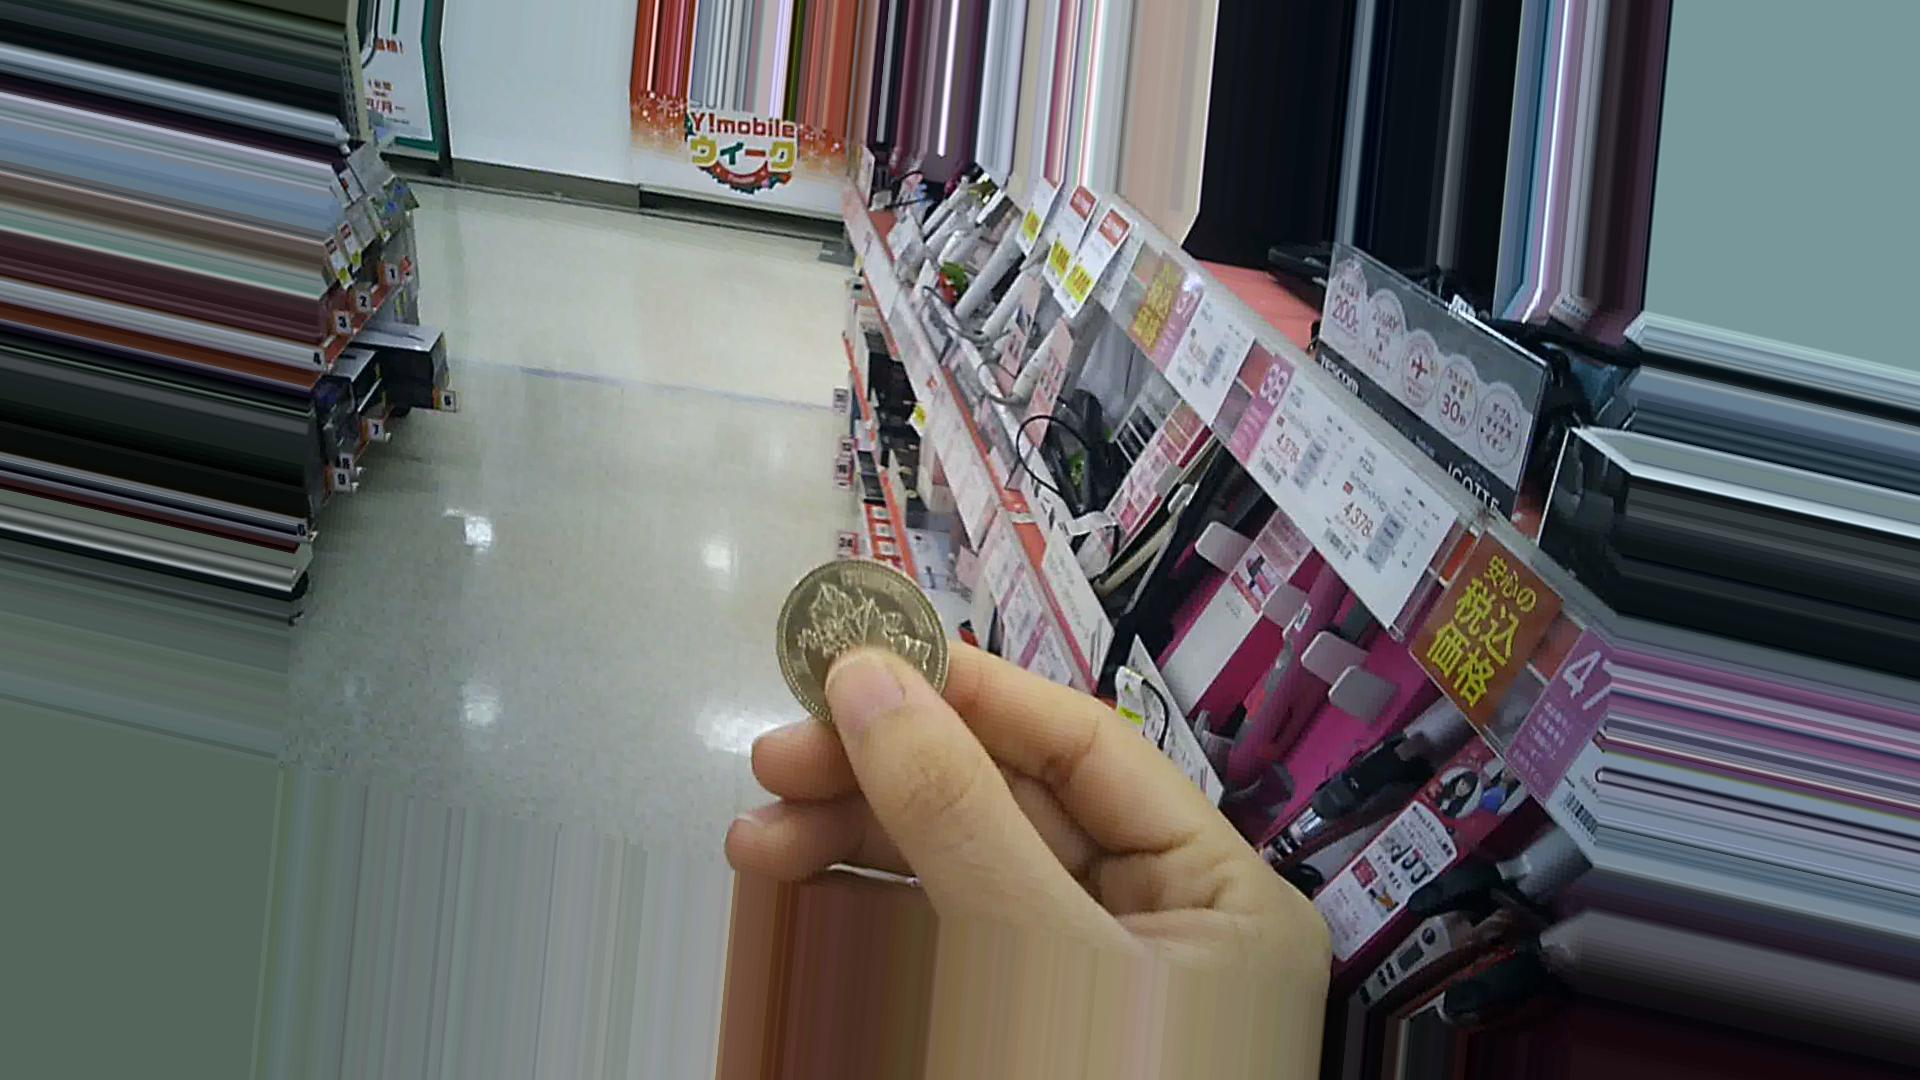500 Yen: (771, 554, 943, 716)
